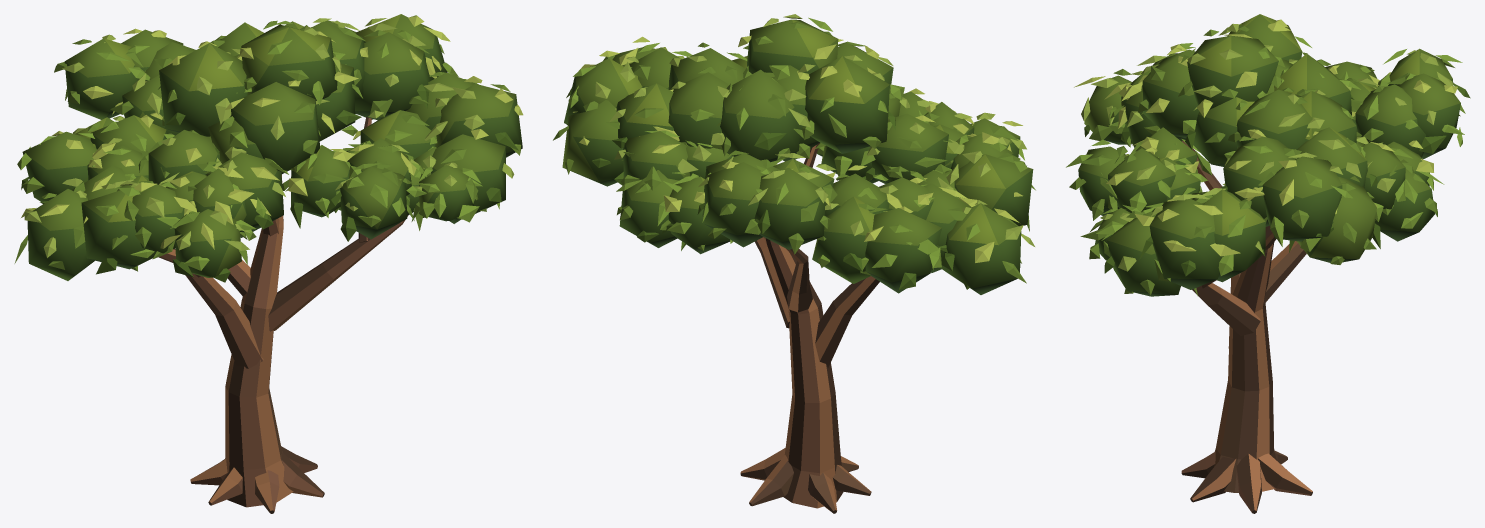
File: wsc-prop-012-deciduous-tree.glb
3 renders of one model, left to right at view 1: azimuth 30°, elevation 25°; view 2: azimuth 150°, elevation 25°; view 3: azimuth 270°, elevation 25°, orthographic.
Visible parts, largest first — view 1: Oak • layered asymmetric crown cores, Oak • individual folded broadleaf geometry, Oak • flared trunk and tapering forks; view 2: Oak • layered asymmetric crown cores, Oak • individual folded broadleaf geometry, Oak • flared trunk and tapering forks; view 3: Oak • layered asymmetric crown cores, Oak • individual folded broadleaf geometry, Oak • flared trunk and tapering forks.
Boxes of the visible parts, bbox=[...] form: Oak • layered asymmetric crown cores: bbox=[22, 14, 522, 280]; Oak • individual folded broadleaf geometry: bbox=[14, 15, 523, 282]; Oak • flared trunk and tapering forks: bbox=[158, 117, 408, 513]; Oak • layered asymmetric crown cores: bbox=[562, 19, 1033, 294]; Oak • individual folded broadleaf geometry: bbox=[553, 14, 1035, 289]; Oak • flared trunk and tapering forks: bbox=[740, 143, 879, 513]; Oak • layered asymmetric crown cores: bbox=[1078, 14, 1460, 296]; Oak • individual folded broadleaf geometry: bbox=[1066, 19, 1470, 295]; Oak • flared trunk and tapering forks: bbox=[1181, 140, 1312, 513].
Bounding box in the file's own units: 5.58 × 5.39 × 4.21.
